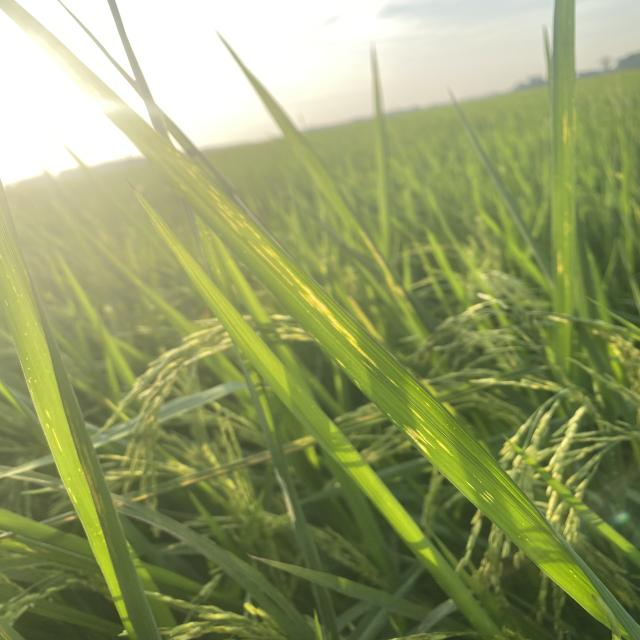Dom soc vi khuan: (259, 243, 381, 370), (419, 422, 454, 457), (401, 423, 436, 457), (409, 408, 425, 422), (479, 493, 492, 505), (482, 492, 494, 503), (465, 480, 477, 491), (485, 490, 495, 500)
